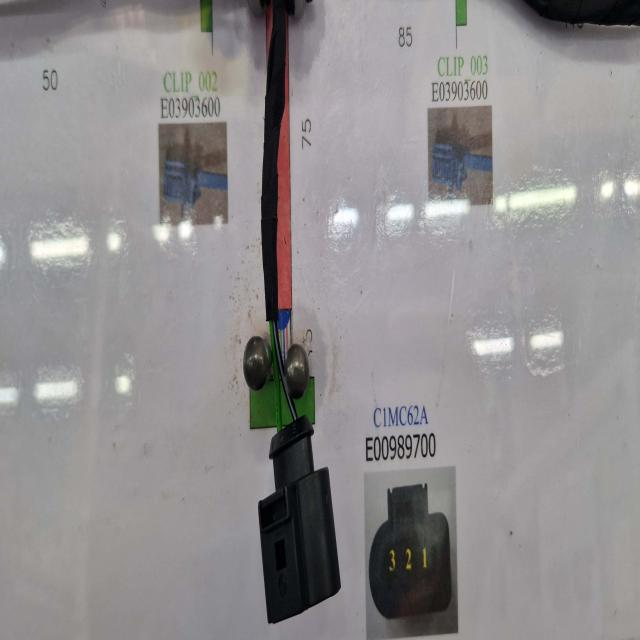Connector: (259, 416, 340, 622)
Gape: (264, 324, 296, 444)
MHEV_N11_Cable: (262, 0, 291, 334)
